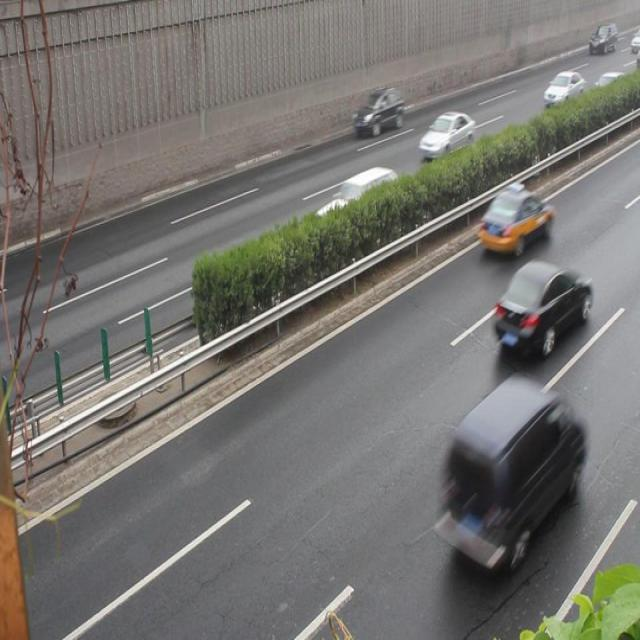car: (442, 369, 585, 565), (491, 257, 590, 357), (311, 167, 398, 251), (479, 187, 555, 254), (419, 110, 474, 167), (354, 86, 404, 139), (541, 69, 583, 111)
